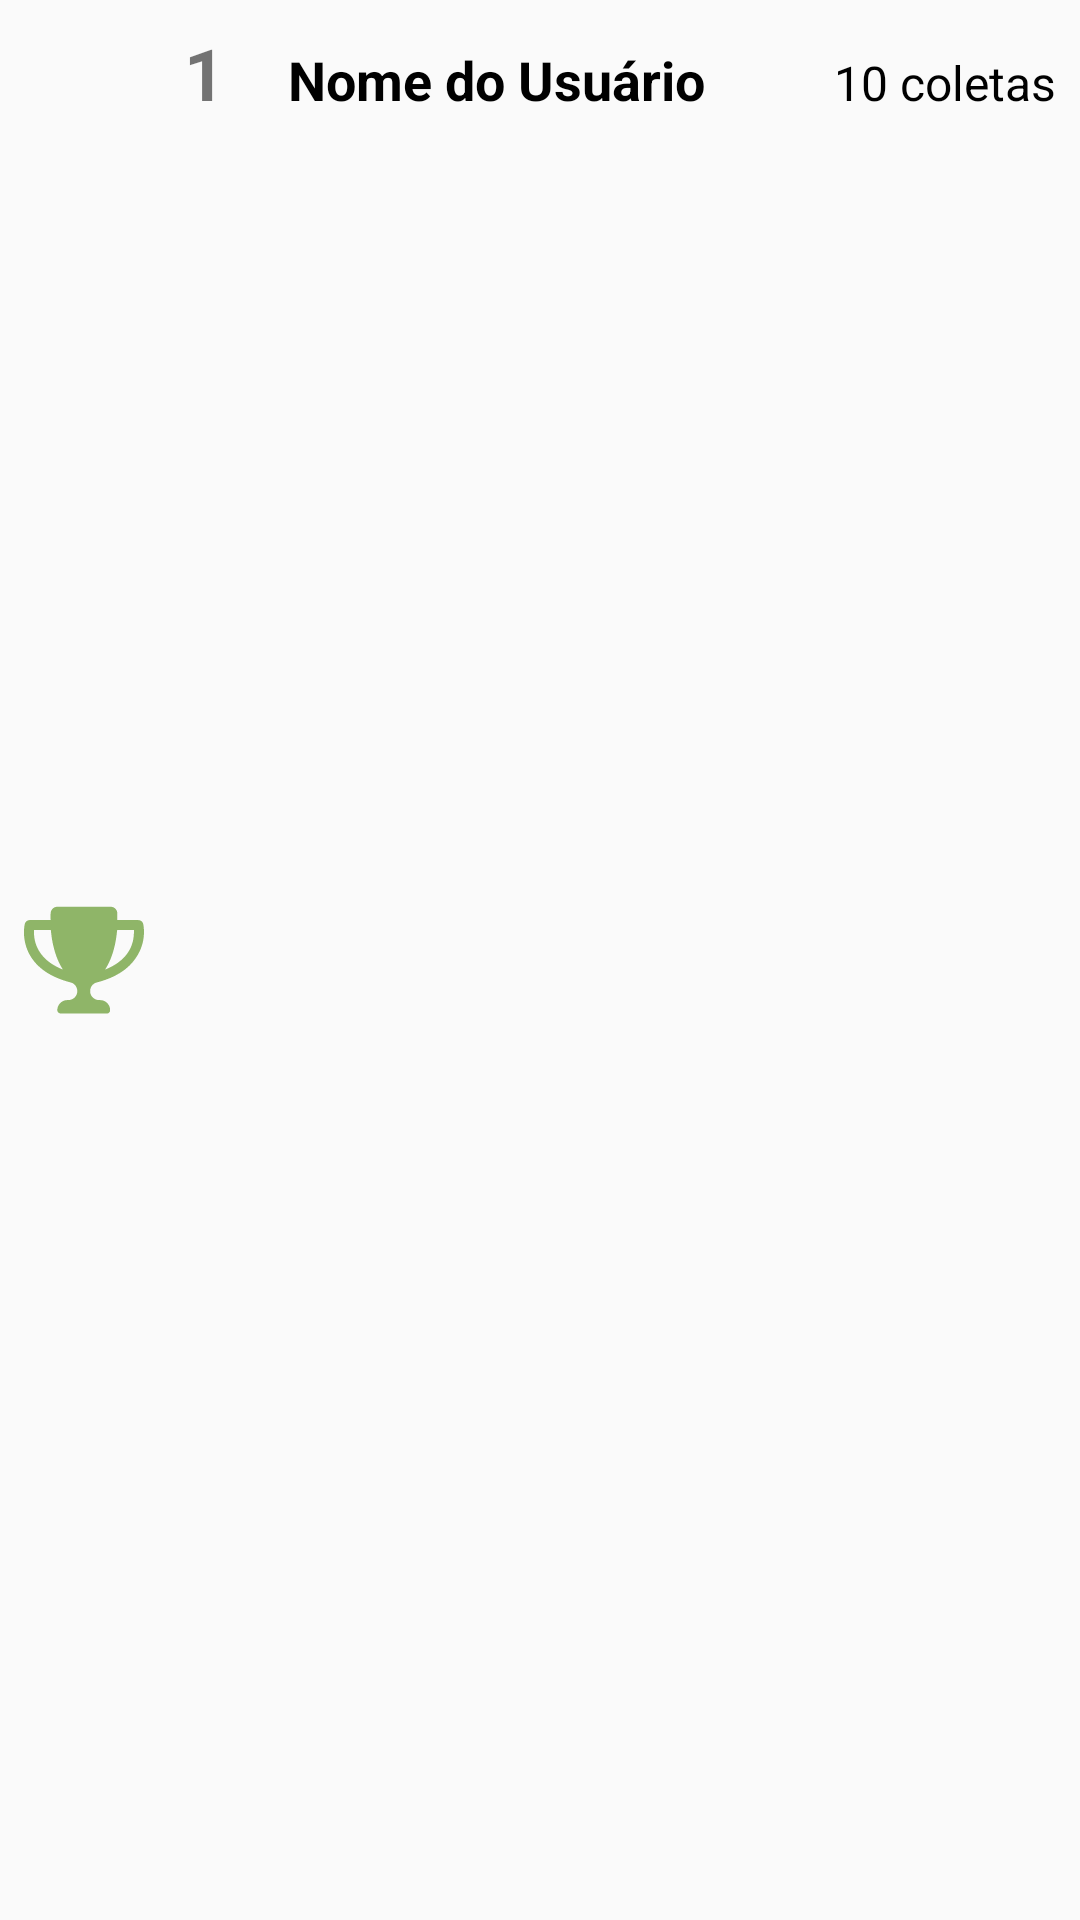

Screen size 1080x1920. Icon name, then its center in pixels as (x,y):
primeiro colocado: (84,960)
